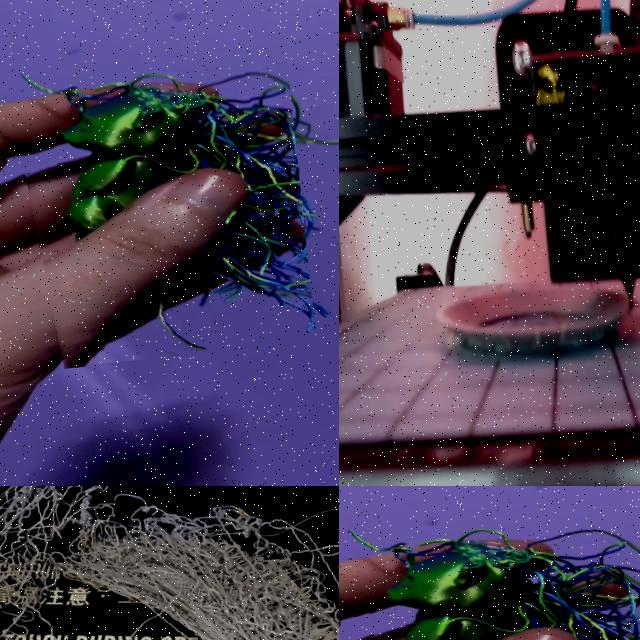spaghetti: (1, 28, 316, 372), (0, 486, 339, 640), (353, 506, 640, 640)
